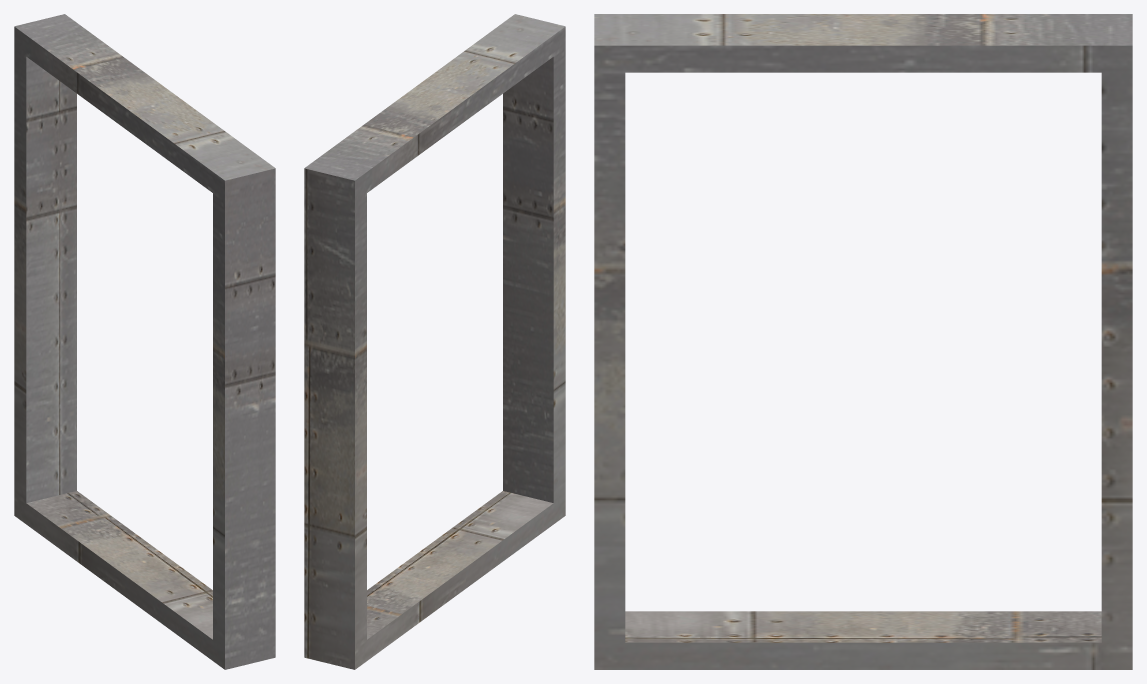
Rendered from door_frame.FBX.
3 views of the same model, side by side, from view 1: azimuth 30°, elevation 25°; view 2: azimuth 150°, elevation 25°; view 3: azimuth 270°, elevation 25° (orthographic). The views are drawn at different scales.
Visible parts, largest first — view 1: Box002; view 2: Box002; view 3: Box002.
Part boxes in pixels (x1,y1,x2,y2): Box002: [14, 14, 275, 669]; Box002: [304, 14, 565, 669]; Box002: [594, 14, 1132, 669].
Size of the model in its own units: 4.59 by 42.3 by 33.05.
